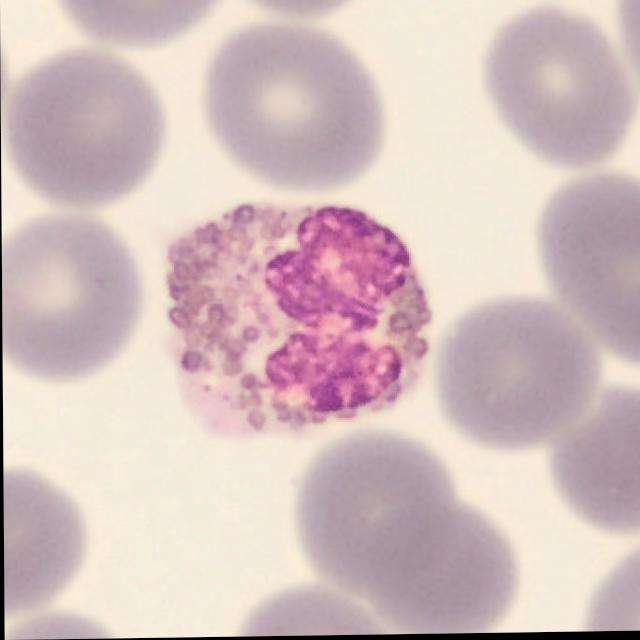Eosinofilo: (164, 201, 433, 439)
